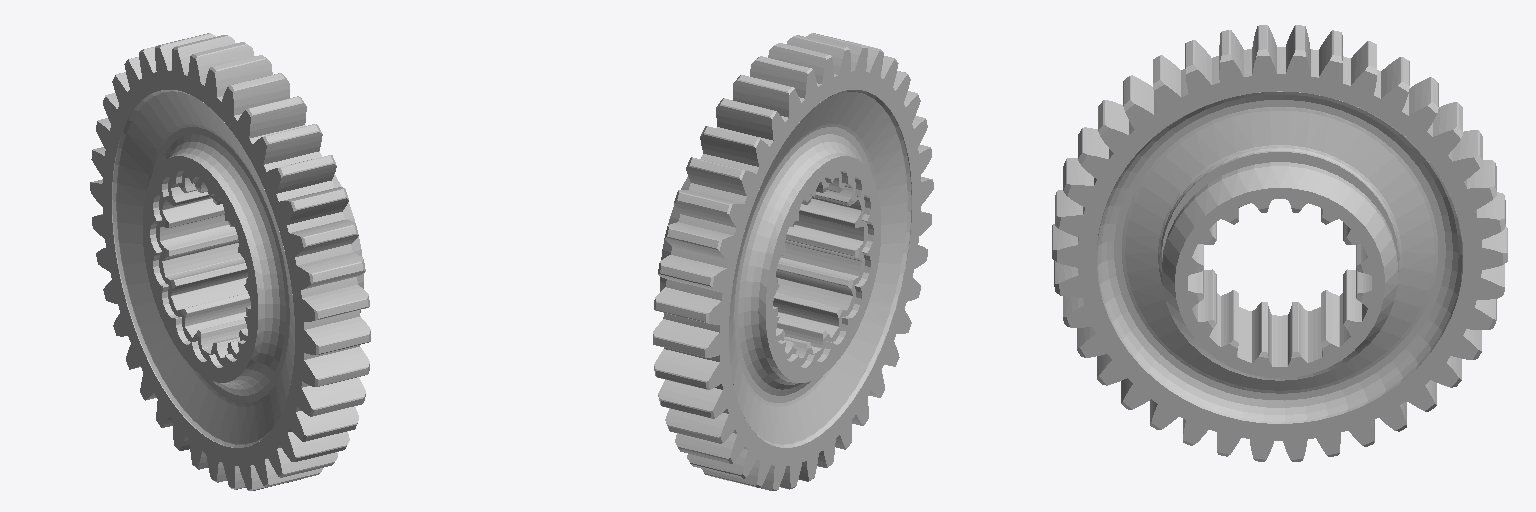
Rendered from 71. Шестерня первой передачи.obj.
3 renders of one model, left to right at view 1: azimuth 30°, elevation 25°; view 2: azimuth 150°, elevation 25°; view 3: azimuth 270°, elevation 25°, orthographic.
Parts seen in each view (by area): view 1: Твердое тело1, Solid1; view 2: Твердое тело1, Solid1; view 3: Твердое тело1, Solid1.
Boxes of the visible parts, <box> form: Твердое тело1: <box>110,87,363,449</box>; Solid1: <box>90,33,370,490</box>; Твердое тело1: <box>660,87,913,450</box>; Solid1: <box>653,33,933,490</box>; Твердое тело1: <box>1094,89,1464,425</box>; Solid1: <box>1052,25,1507,461</box>.
Bounding box in the file's own units: 47.5 × 169 × 169.